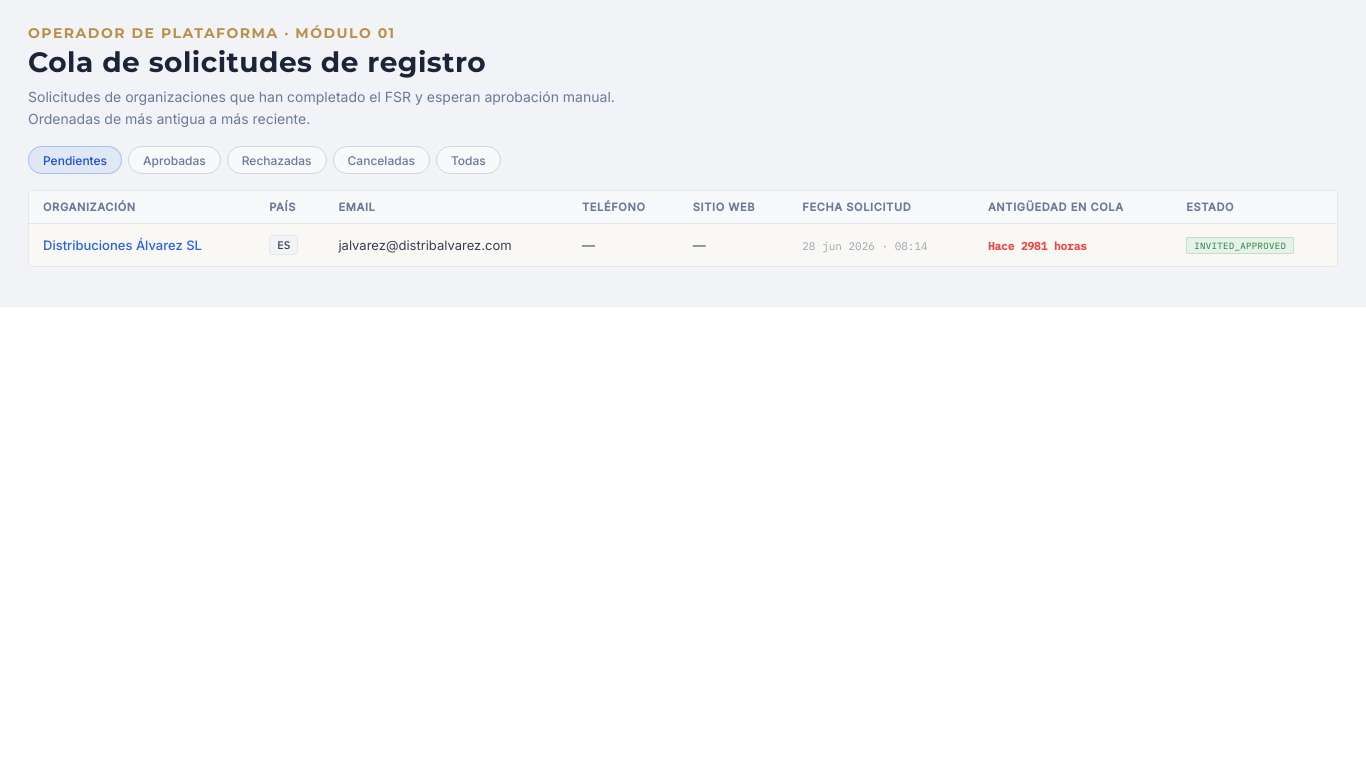
Scenario: AdminRequests · enlace de acceso › al abrir una solicitud ya aprobada pide el ESTADO del enlace y no enseña ningún enlace
The image size is (1366, 768).
Click the button "Todas" at (468, 160), box [436,146,501,174]
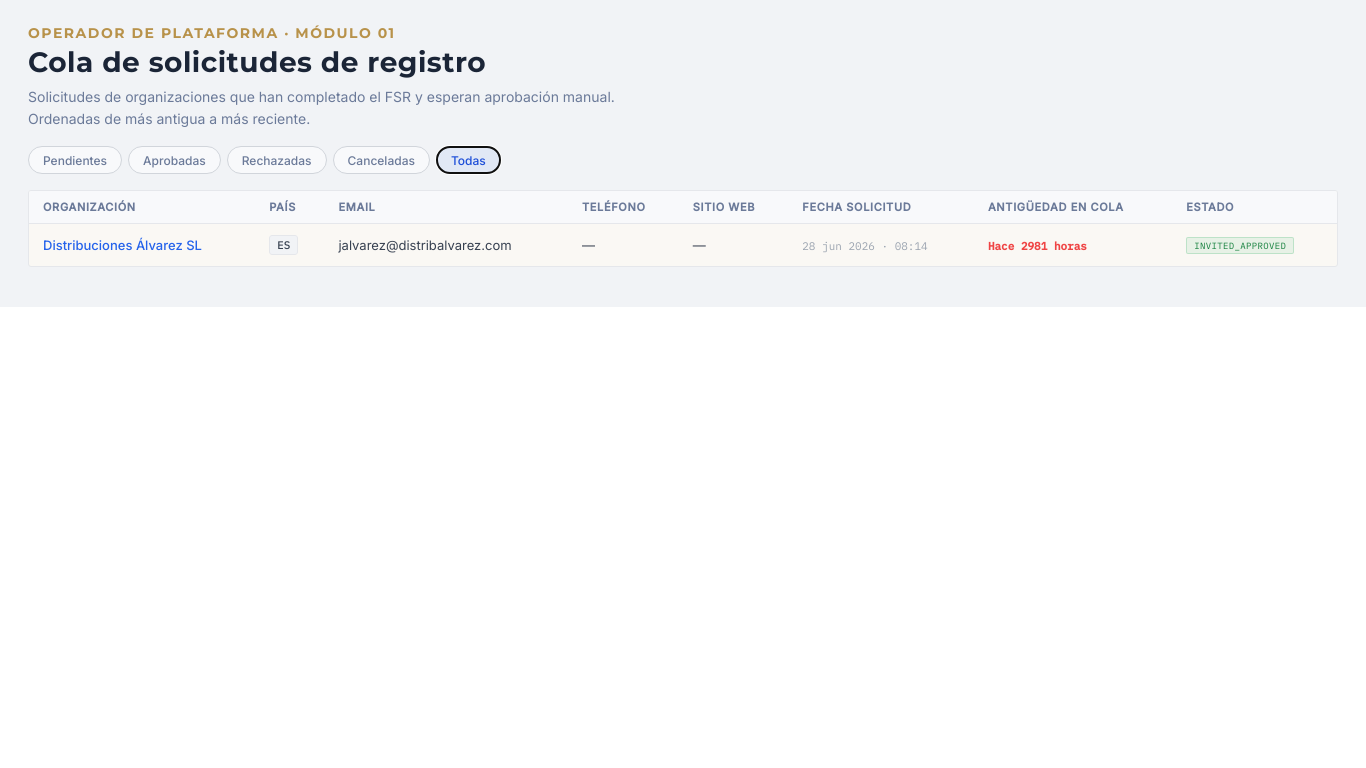
Click the button "Distribuciones Álvarez SL" at (122, 245), box [43,237,202,253]
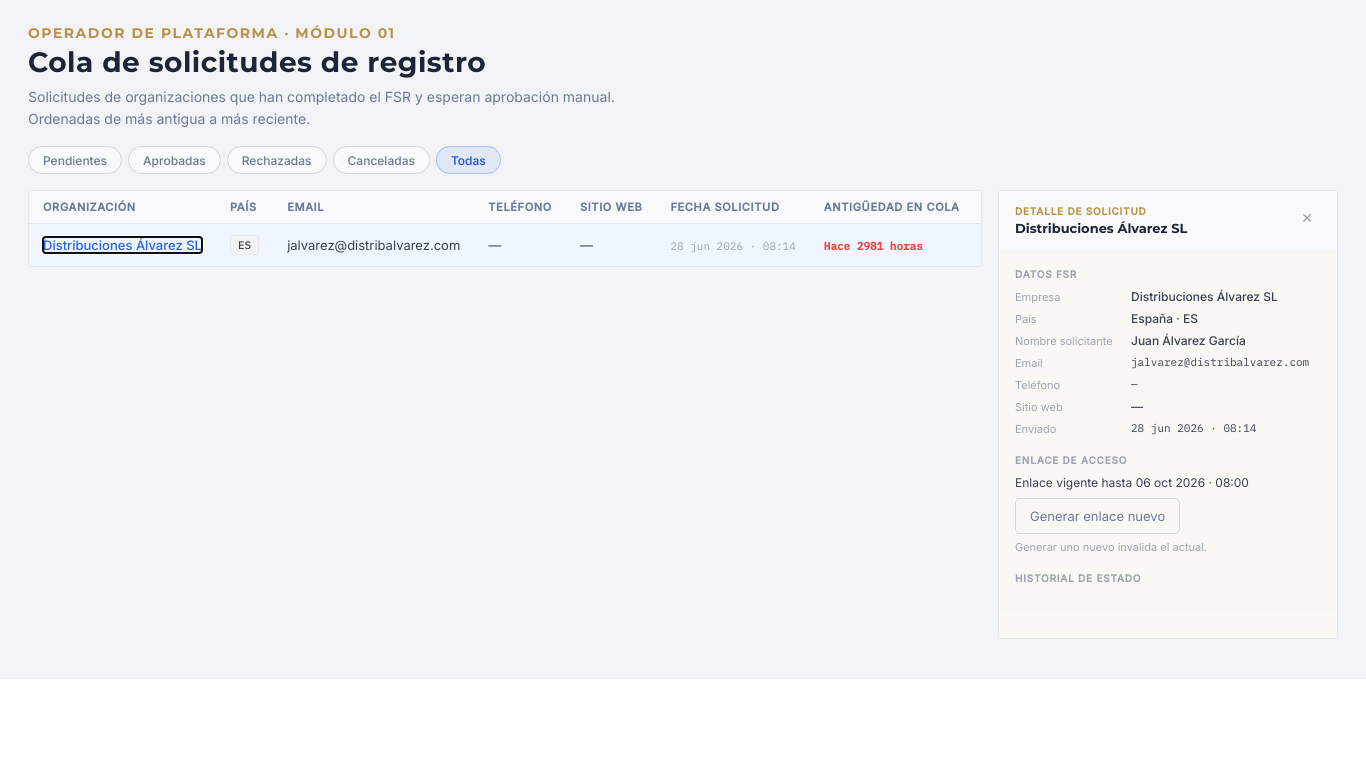
Expected: the text "Detalle de solicitud" is shown, [1015,205,1147,217]
Expected: the text "Enlace vigente hasta 06 oct 2026 · 08:00" is shown, [1015,475,1249,490]
